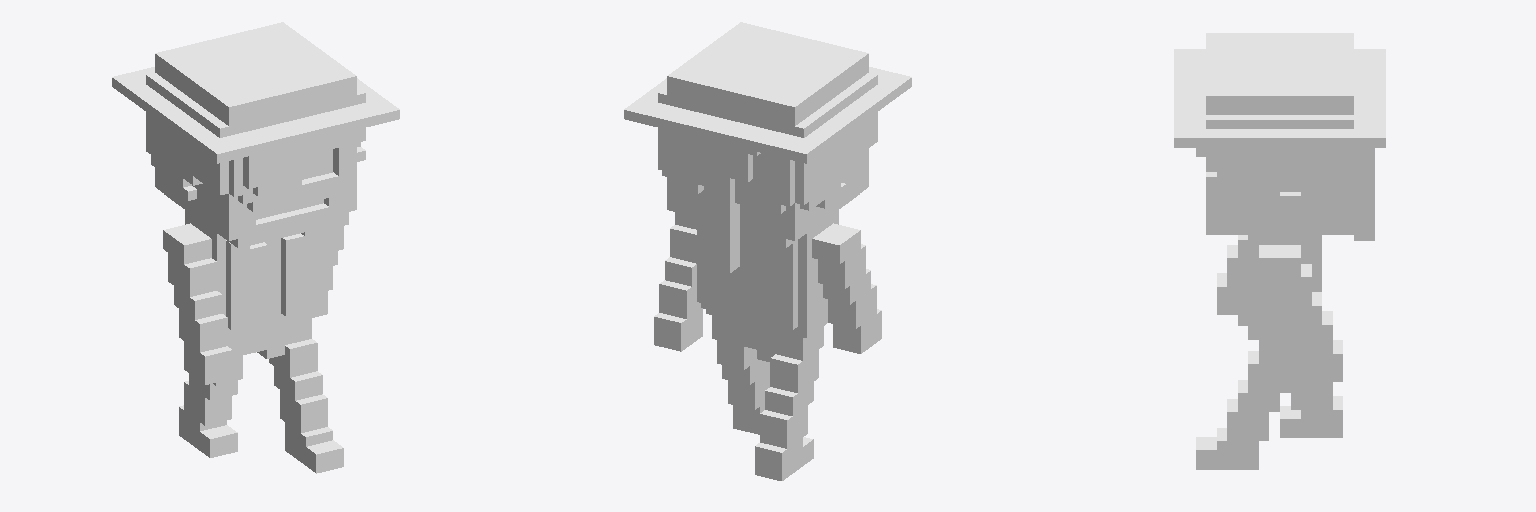
Rendered from pirate1_walk_2.obj.
3 views of the same model, side by side, from view 1: azimuth 30°, elevation 25°; view 2: azimuth 150°, elevation 25°; view 3: azimuth 270°, elevation 25° (orthographic).
Parts seen in each view (by area): view 1: object 1; view 2: object 1; view 3: object 1.
Part boxes in pixels (bbox=[...]): object 1: bbox=[112, 22, 399, 473]; object 1: bbox=[624, 22, 911, 480]; object 1: bbox=[1174, 33, 1385, 469].
Size of the model in its own units: 2 by 4 by 2.